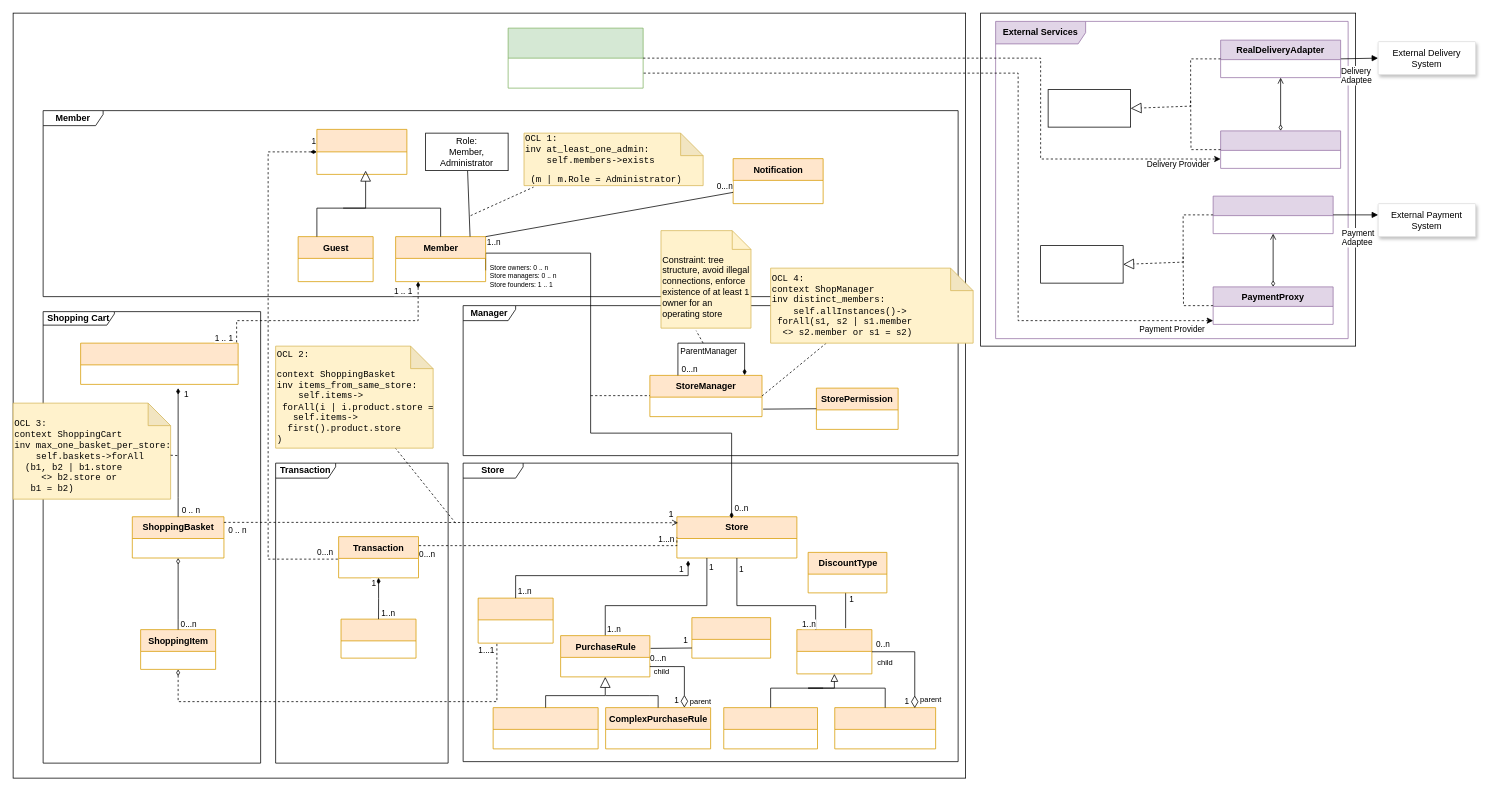
The diagram is 1493 pixels wide and 797 high, and some of its shapes have lost their labels. The shapes that lost their labels are listed below. From the top down, each one's centre as x and y in pixels, then its label:
At point 575,57: "Market".
At point 1089,108: "«interface» IDelivery".
At point 361,151: "User".
At point 1280,149: "DeliveryProxy".
At point 1272,214: "RealPaymentAdapter".
At point 1081,264: "«interface» IPayment".
At point 159,363: "ShoppingCart".
At point 378,638: "TransactionItem".
At point 515,620: "Product".
At point 731,637: "RuleType".
At point 834,651: "DiscountRule".
At point 545,728: "SimplePurchaseRule".
At point 770,728: "SimpleDiscounrRule".
At point 885,728: "ComplexDiscounrRule".
